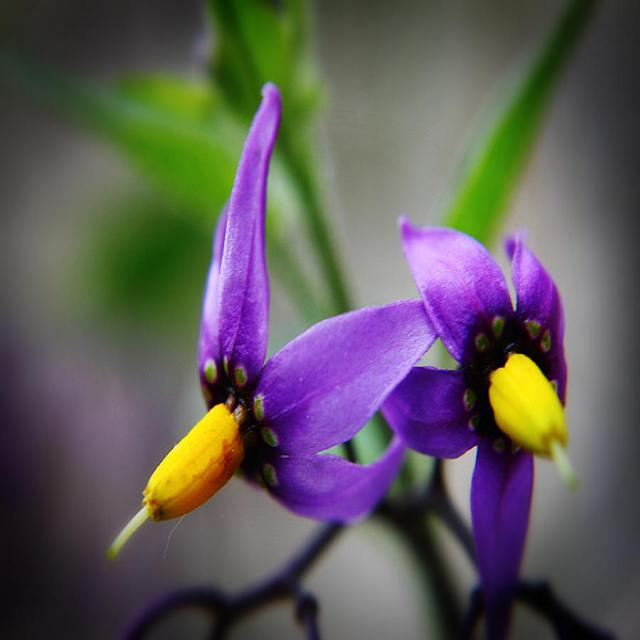Poisonous-Deadly_Nightshade: (103, 72, 426, 614), (405, 218, 631, 582)
